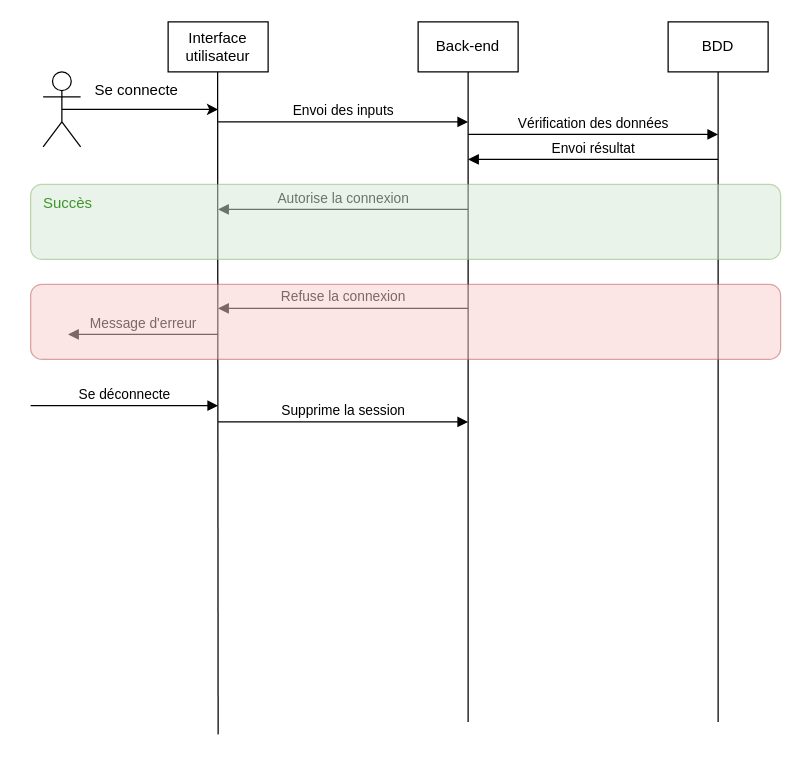
Image size: 803x758. Some labels were removed from this diagram. The centre of each missing label's shape, as x and y in pixels:
Echec: point 405,321
Utilisateur: point 61,109
